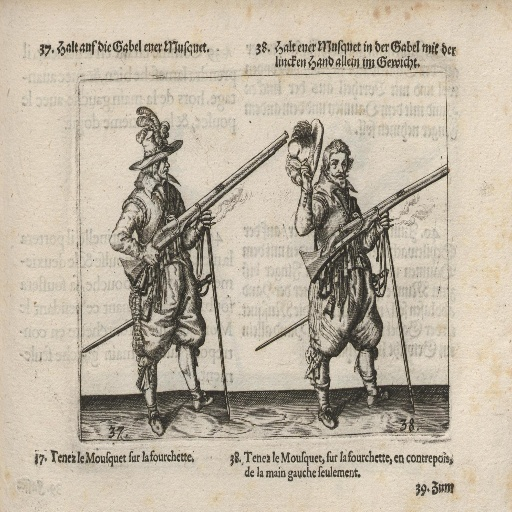hand: (193, 207, 213, 233), (373, 209, 390, 234), (142, 243, 160, 266), (299, 157, 312, 186)
